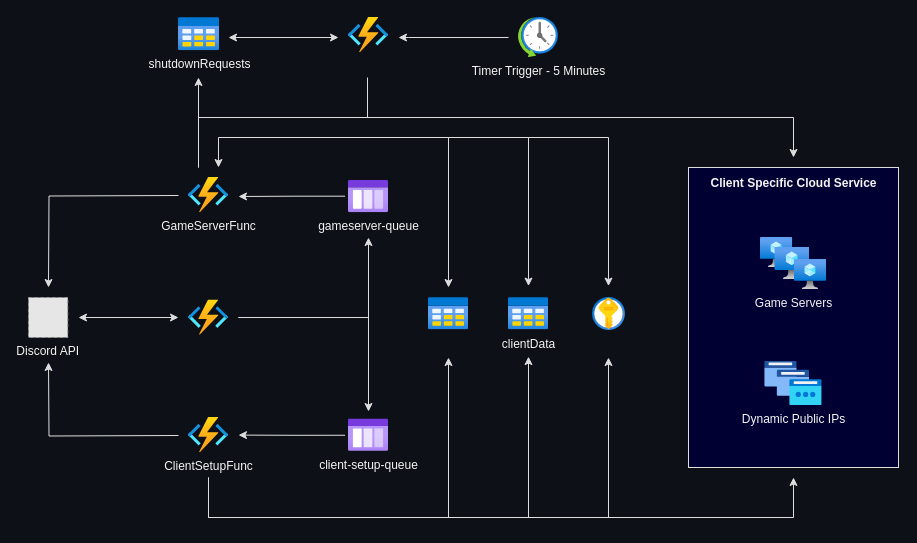
Some shapes in this 917 by 543 pixel diagram are drawn without their labels. Grey dashed boxes stand in for pictures. The centre of each missing label's shape, as x and y in pixels:
client-secrets: (608,313)
InteractionsFunc: (208,317)
serverData: (448,313)
TimerShutdownFunc: (368,34)
